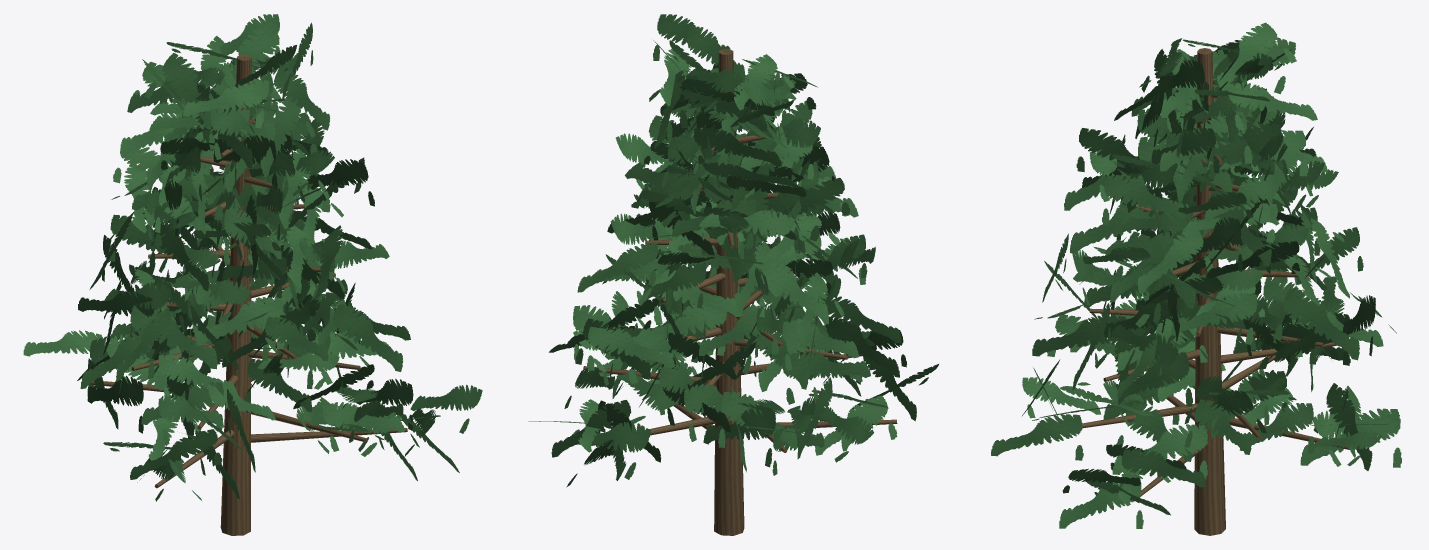
The picture shows the model from 3 angles, left to right: view 1: azimuth 30°, elevation 25°; view 2: azimuth 150°, elevation 25°; view 3: azimuth 270°, elevation 25°; orthographic projection.
Visible parts, largest first — view 1: pine-needle, pine-bark; view 2: pine-needle, pine-bark; view 3: pine-needle, pine-bark.
Part boxes in pixels (x1=…): pine-needle: x1=23, y1=14, x2=482, y2=501; pine-bark: x1=89, y1=54, x2=407, y2=535; pine-needle: x1=528, y1=14, x2=938, y2=487; pine-bark: x1=583, y1=49, x2=897, y2=535; pine-needle: x1=991, y1=22, x2=1401, y2=528; pine-bark: x1=1082, y1=48, x2=1349, y2=535.
Bounding box in the file's own units: 7.82 × 10.45 × 8.19.
2 materials, 2 textured.
